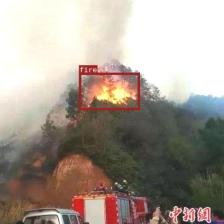fire: (78, 72, 140, 110)
